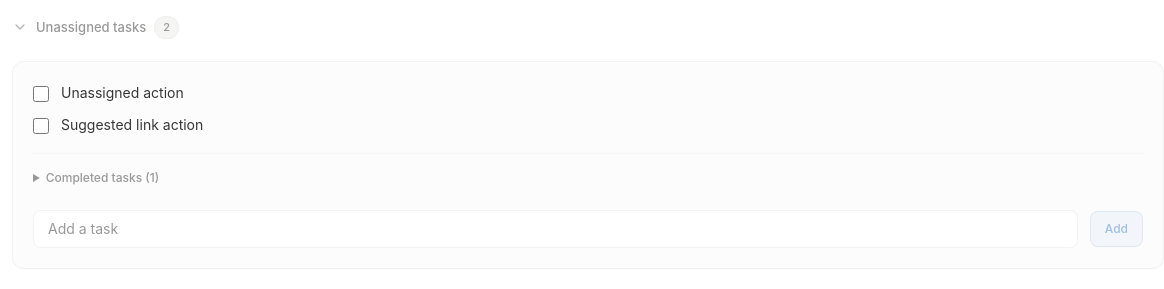
Test: toggles completion and reports mutation errors
Click the checkbox labelled "Unassigned action". click: (41, 94)
box: [33,86,49,102]
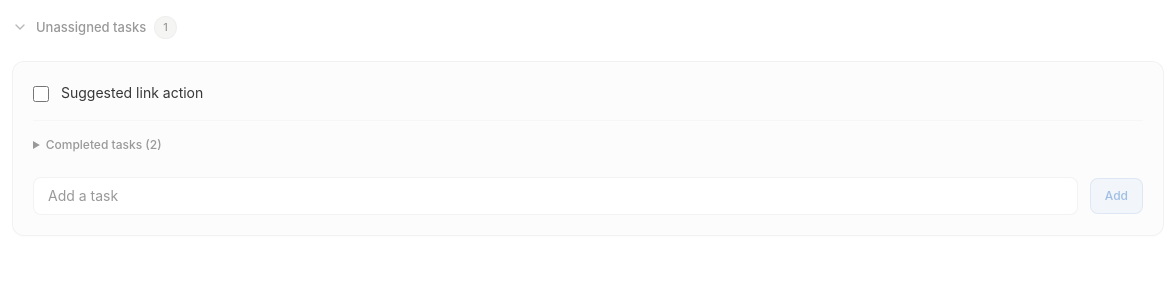
Click the checkbox labelled "Suggested link action". click: (41, 94)
box: [33,86,49,102]
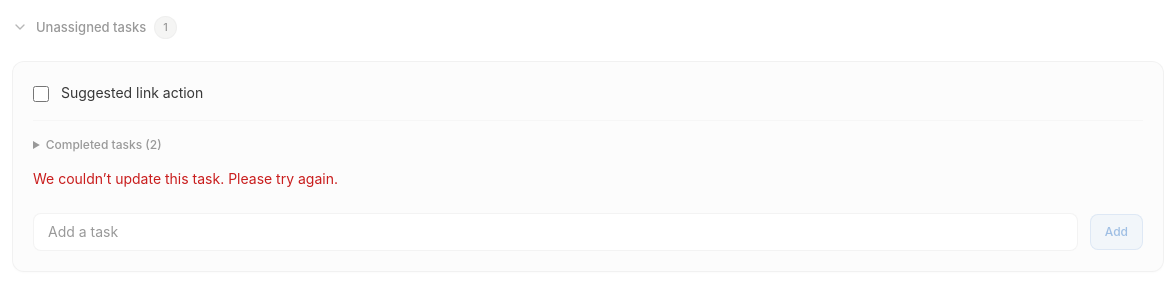
Expected: the message "We couldn’t update this task. Please try again." is shown, [33,170,338,187]
